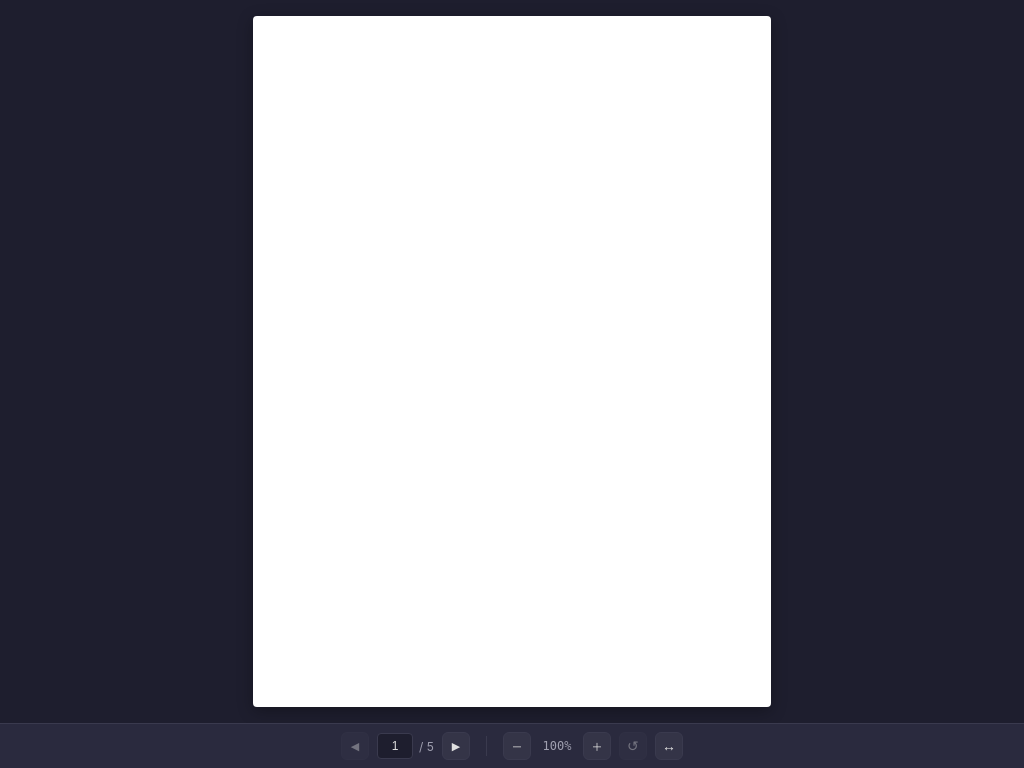
RenderPdf Component › zooms further out than the old 50% floor
Click the button titled "Zoom Out". click: {"x": 517, "y": 746}
box: [503,732,531,760]
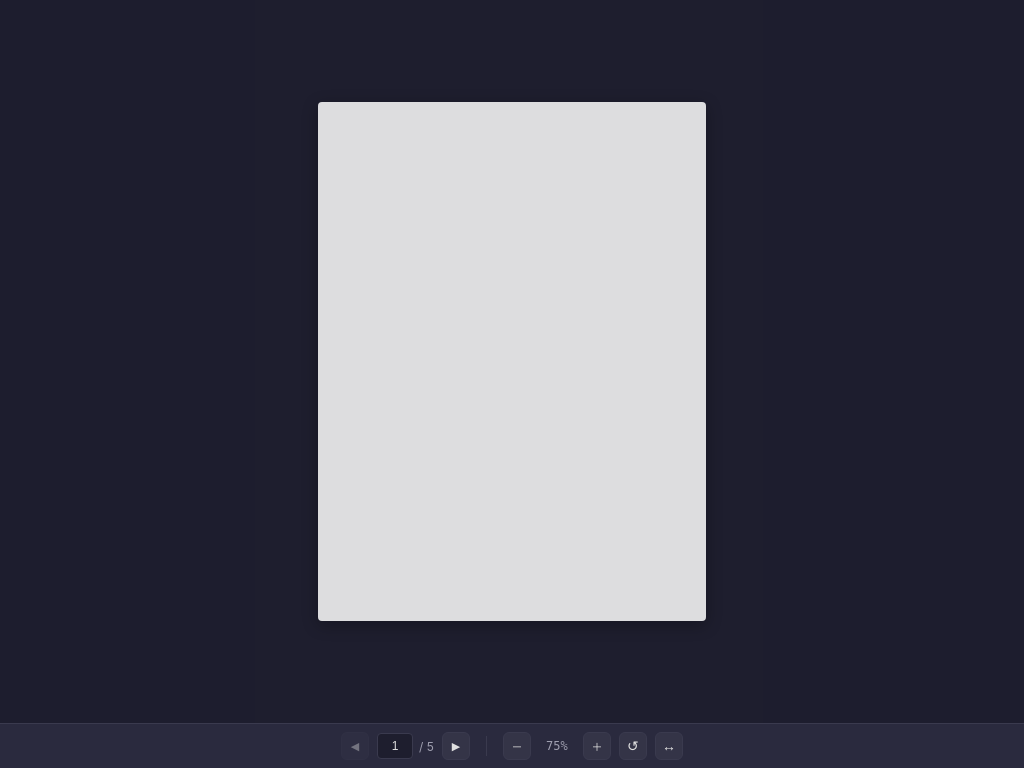
Click the button titled "Zoom Out". click: {"x": 517, "y": 746}
box: [503,732,531,760]
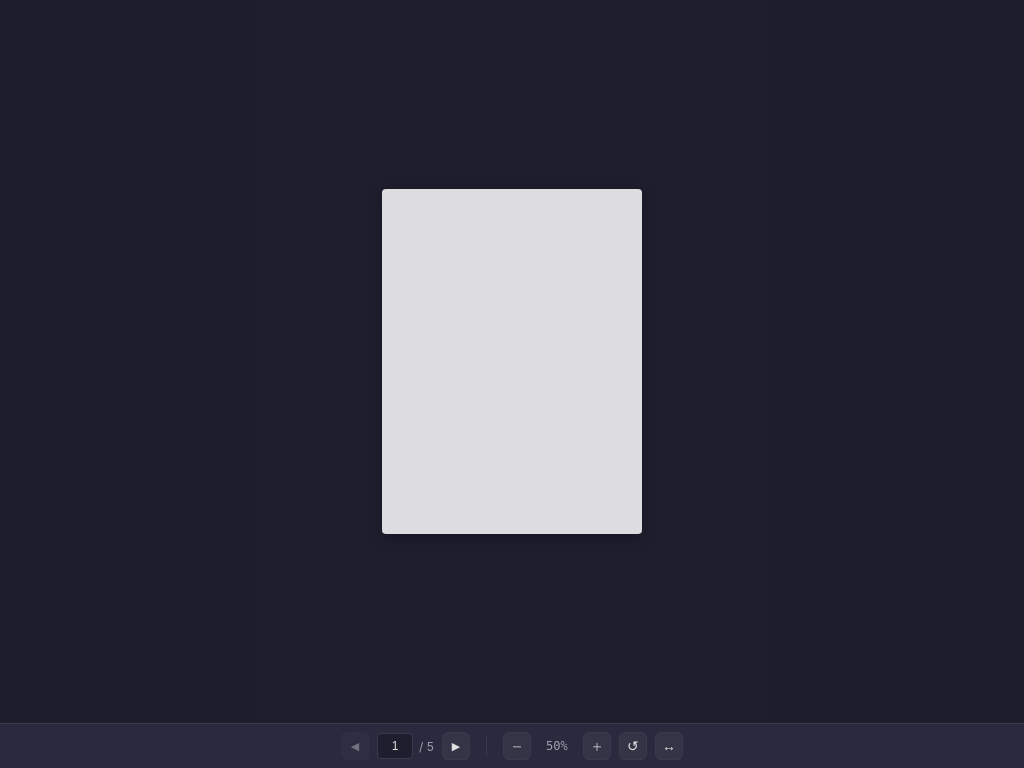
Click the button titled "Zoom Out". click: {"x": 517, "y": 746}
box: [503,732,531,760]
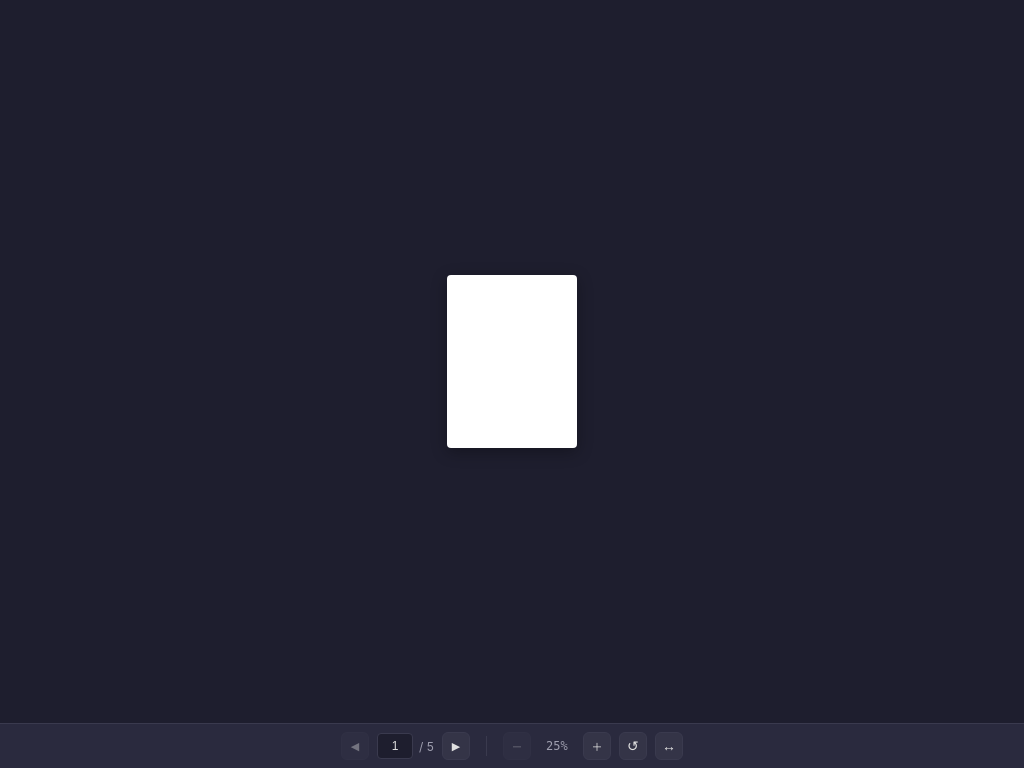
Expected: the text "25%" is shown, [546,739,568,753]
